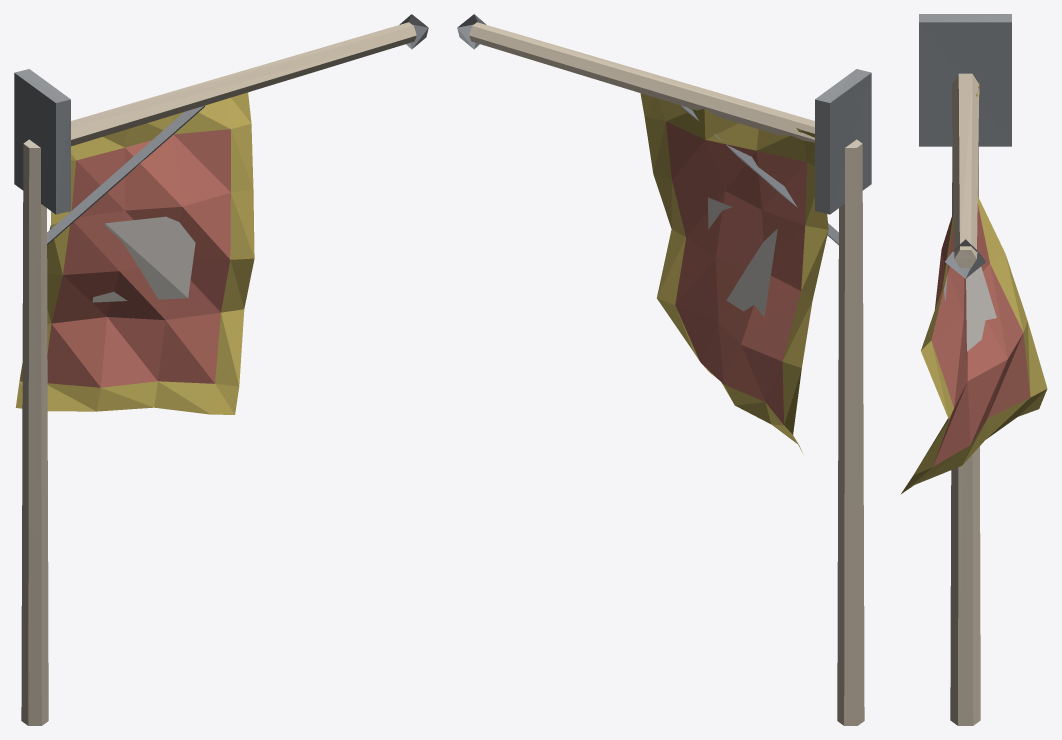
File: flag.rect.chizhi__pole.horizontal.xiecheng__armHang.glb
3 renders of one model, left to right at view 1: azimuth 30°, elevation 25°; view 2: azimuth 150°, elevation 25°; view 3: azimuth 270°, elevation 25°, orthographic. The views are drawn at different scales.
Visible parts, largest first — view 1: flag.rect.chizhi; view 2: flag.rect.chizhi; view 3: flag.rect.chizhi.
Boxes of the visible parts, bbox=[...] form: flag.rect.chizhi: bbox=[14, 14, 428, 725]; flag.rect.chizhi: bbox=[457, 14, 871, 725]; flag.rect.chizhi: bbox=[901, 14, 1047, 725].
Bounding box in the file's own units: 2.12 × 3.18 × 0.5998.
